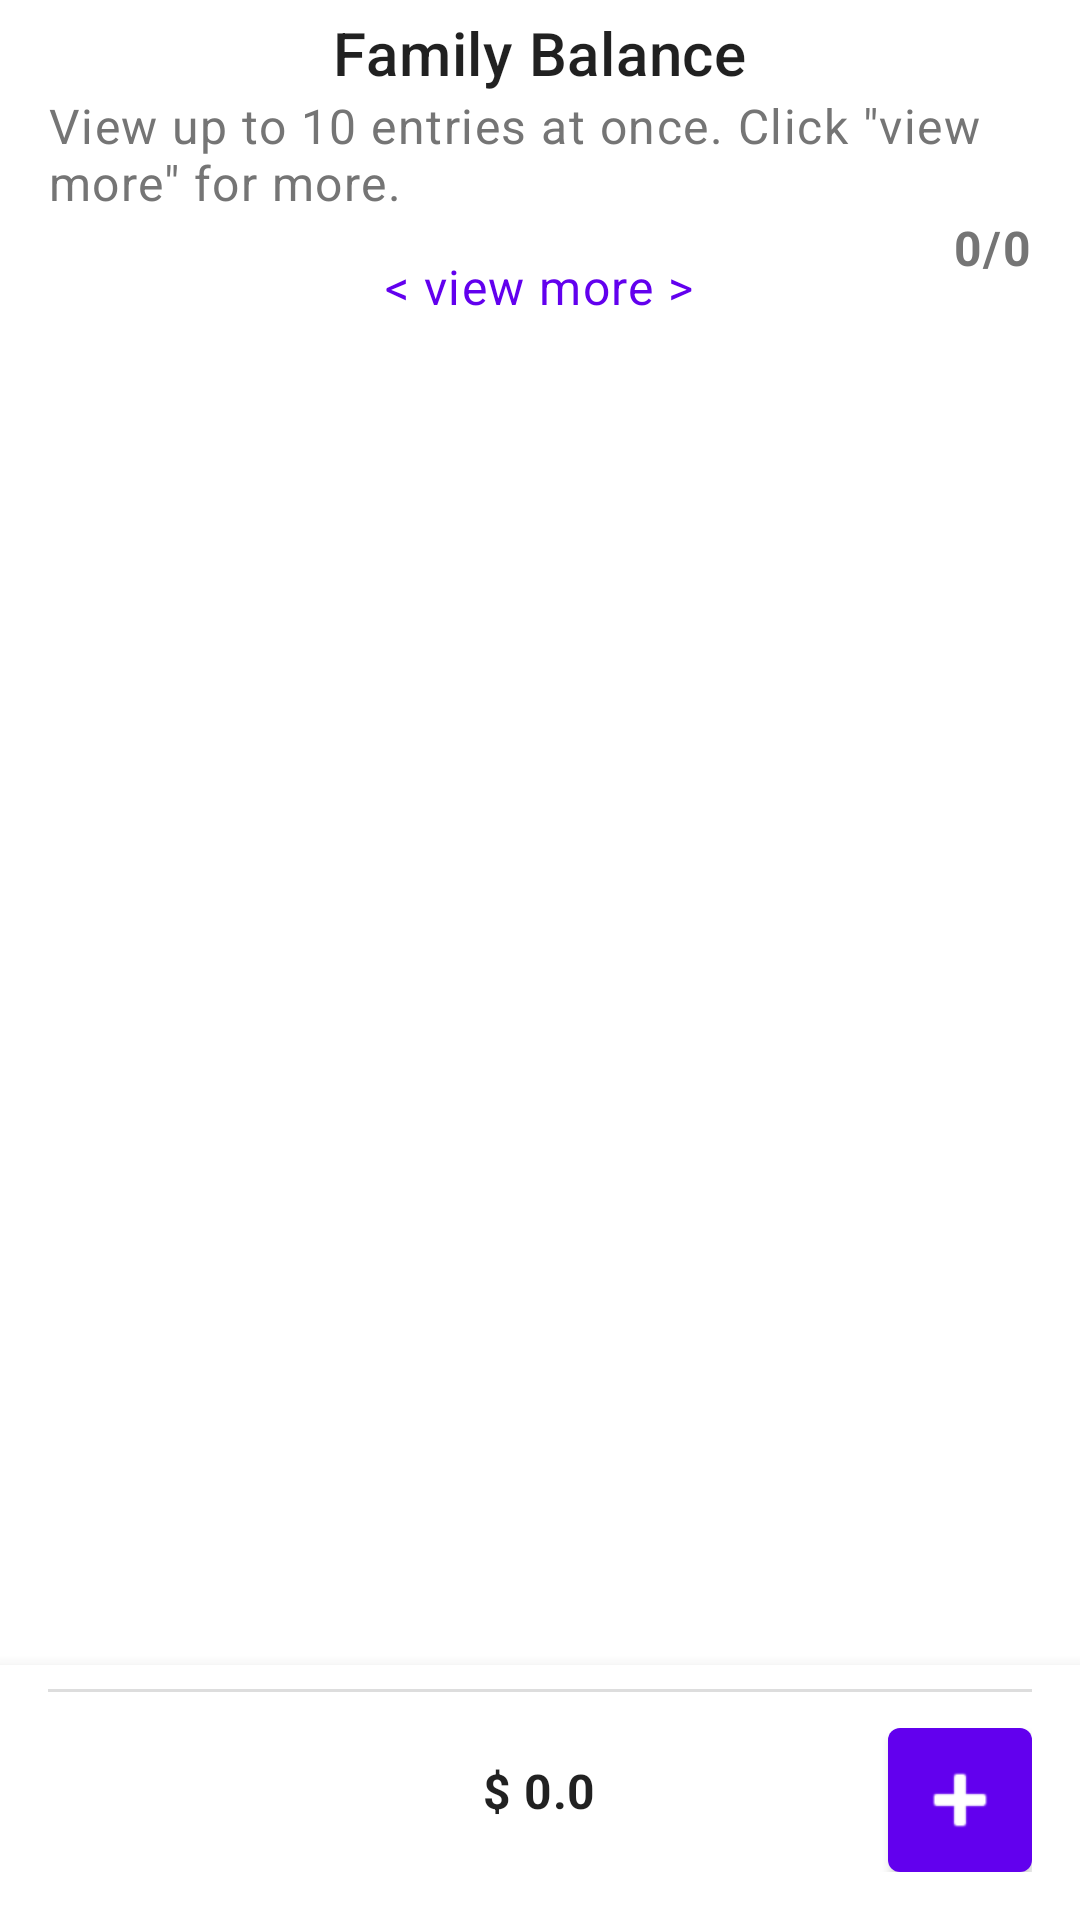

Named icons in this screenshot (1080px×1920px) and their bounding boxes, (x1,y1,x2,y2):
add: (888,1728,1032,1872)
